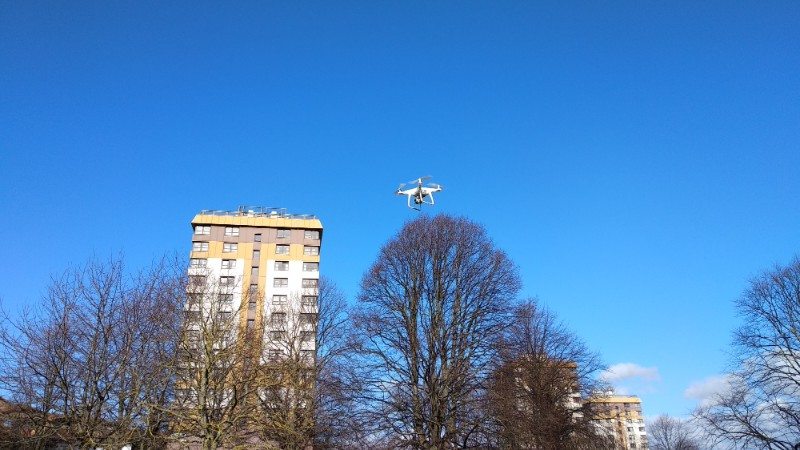drone: (394, 174, 447, 210)
